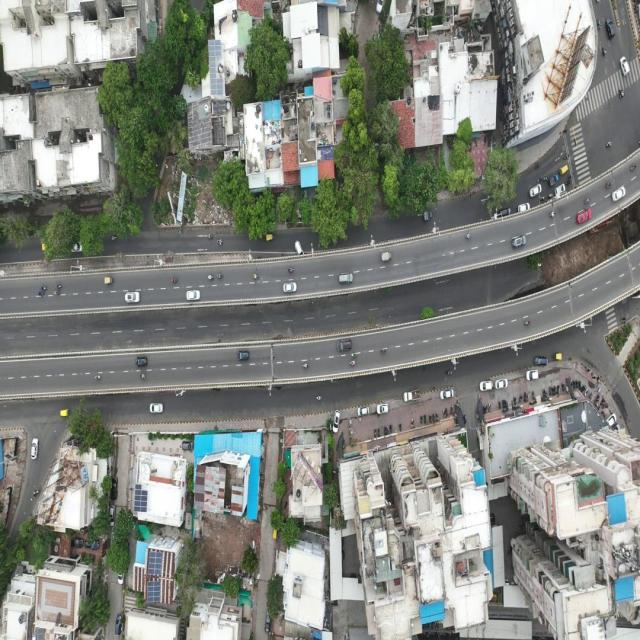3W: (381, 250, 393, 264), (552, 350, 563, 364), (59, 407, 71, 419), (103, 276, 116, 286), (550, 174, 559, 186), (560, 164, 569, 174), (266, 232, 274, 242)
Cars: (336, 270, 355, 286), (576, 208, 593, 225), (235, 350, 253, 366), (280, 281, 298, 296), (613, 185, 626, 205), (511, 234, 527, 250), (332, 408, 341, 436), (605, 18, 616, 40), (619, 56, 630, 78), (124, 291, 141, 305), (30, 436, 39, 462), (478, 379, 494, 393), (185, 289, 201, 302), (529, 183, 542, 199), (293, 239, 305, 256), (376, 402, 390, 416), (149, 402, 164, 415), (356, 405, 371, 418), (440, 388, 454, 401), (526, 370, 540, 383), (534, 354, 548, 367), (337, 339, 352, 351), (135, 356, 148, 368), (516, 202, 530, 213), (495, 379, 508, 390), (498, 207, 512, 217)
LCV: (403, 388, 422, 404), (424, 210, 433, 221)
M2W: (602, 135, 615, 150), (313, 392, 325, 404), (594, 17, 604, 31), (522, 316, 532, 329), (378, 345, 388, 357), (32, 484, 40, 498), (599, 46, 608, 58), (169, 276, 179, 286), (300, 361, 310, 371), (618, 87, 626, 99), (253, 271, 260, 284), (463, 232, 472, 242), (287, 265, 296, 274), (630, 162, 638, 172), (216, 238, 223, 247), (446, 369, 453, 378), (216, 273, 224, 280), (549, 210, 556, 218), (584, 197, 592, 204), (606, 180, 612, 189), (94, 374, 101, 381), (208, 233, 215, 240), (349, 360, 356, 367), (547, 192, 554, 199), (207, 274, 215, 280), (40, 286, 49, 291), (37, 292, 44, 298), (56, 283, 63, 289), (54, 290, 61, 296), (140, 373, 146, 380), (111, 235, 118, 241), (563, 154, 570, 160), (566, 180, 572, 187), (351, 353, 357, 358)
